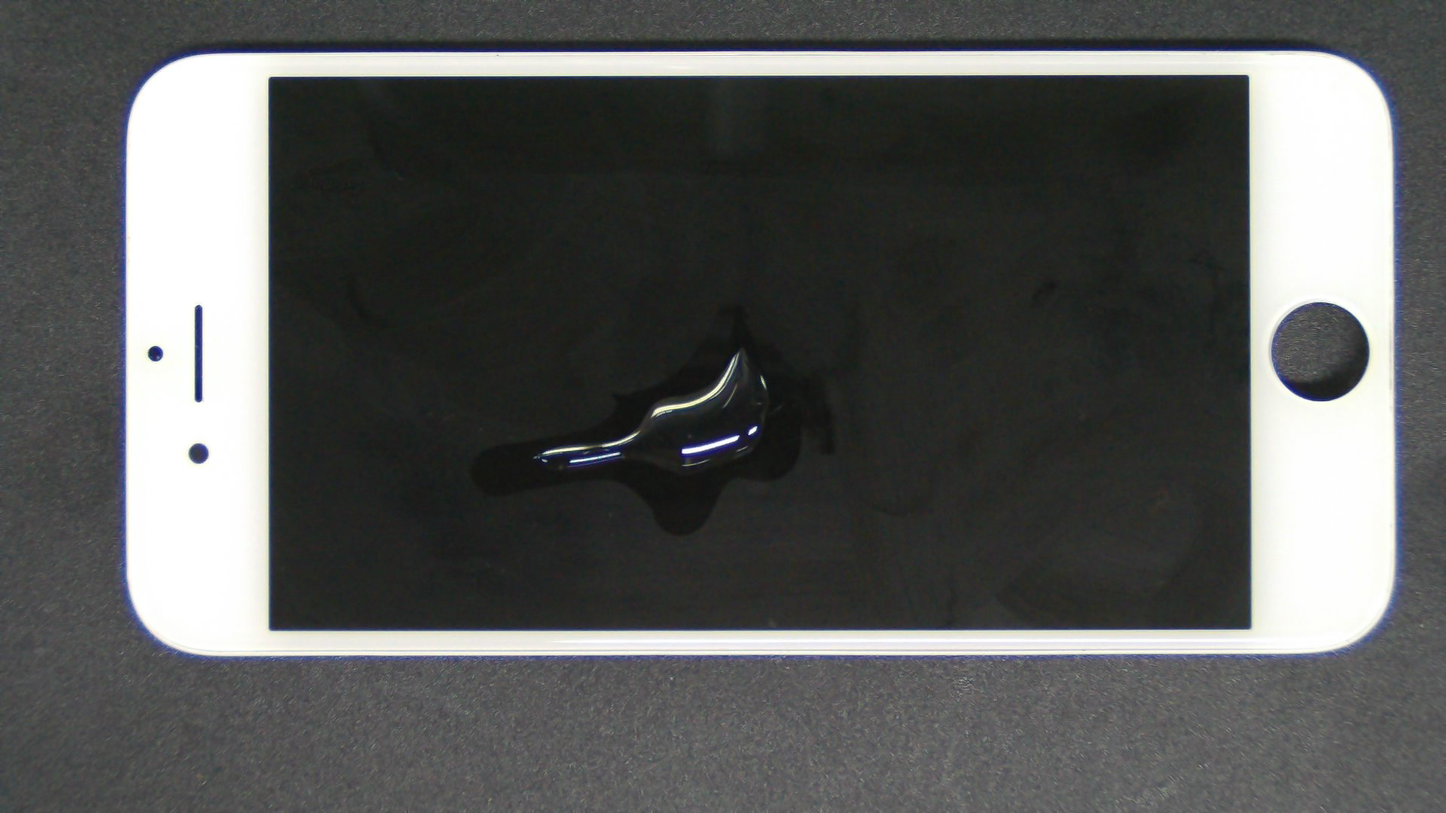oil: (431, 267, 891, 558)
